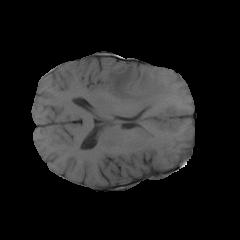glioma: (106, 64, 167, 110)
